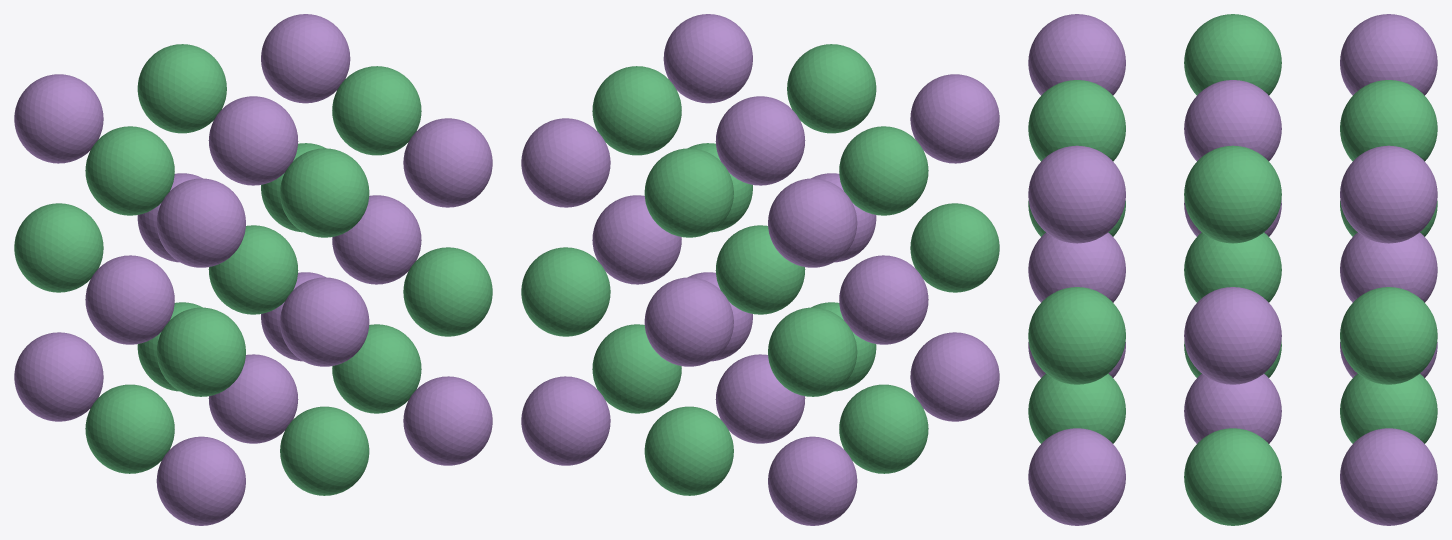
The model's file is rede_ionica_NaCl.glb.
The picture shows the model from 3 angles, left to right: view 1: azimuth 30°, elevation 25°; view 2: azimuth 150°, elevation 25°; view 3: azimuth 270°, elevation 25°; orthographic projection. The views are drawn at different scales.
Parts seen in each view (by area): view 1: Cl_23, Na_20, Na_26, Cl_11, Na_14, Cl_17, Cl_3, Na_4, Na_6, Cl_7, Cl_1, Na_0 (+15 smaller); view 2: Cl_21, Na_18, Na_24, Cl_9, Na_12, Cl_15, Na_4, Cl_5, Cl_7, Na_8, Cl_1, Na_2 (+15 smaller); view 3: Cl_19, Na_22, Na_24, Na_26, Cl_21, Cl_23, Na_18, Na_20, Cl_25, Cl_7, Cl_15, Cl_17 (+9 smaller).
Boxes of the visible parts, x1=… form: Cl_23: x1=403, y1=247, x2=492, y2=336; Na_20: x1=403, y1=376, x2=492, y2=465; Na_26: x1=403, y1=118, x2=492, y2=207; Cl_11: x1=280, y1=406, x2=369, y2=495; Na_14: x1=280, y1=277, x2=369, y2=366; Cl_17: x1=280, y1=148, x2=369, y2=237; Cl_3: x1=14, y1=203, x2=103, y2=292; Na_4: x1=85, y1=255, x2=174, y2=344; Na_6: x1=14, y1=74, x2=103, y2=163; Cl_7: x1=85, y1=126, x2=174, y2=215; Cl_1: x1=85, y1=384, x2=174, y2=473; Na_0: x1=14, y1=332, x2=103, y2=421; Cl_21: x1=521, y1=247, x2=610, y2=336; Na_18: x1=521, y1=376, x2=610, y2=465; Na_24: x1=521, y1=118, x2=610, y2=207; Cl_9: x1=644, y1=406, x2=733, y2=495; Na_12: x1=644, y1=277, x2=733, y2=366; Cl_15: x1=644, y1=148, x2=733, y2=237; Na_4: x1=839, y1=255, x2=928, y2=344; Cl_5: x1=910, y1=203, x2=999, y2=292; Cl_7: x1=839, y1=126, x2=928, y2=215; Na_8: x1=910, y1=74, x2=999, y2=163; Cl_1: x1=839, y1=384, x2=928, y2=473; Na_2: x1=910, y1=332, x2=999, y2=421; Cl_19: x1=1184, y1=428, x2=1281, y2=525; Na_22: x1=1184, y1=287, x2=1281, y2=384; Na_24: x1=1340, y1=145, x2=1437, y2=243; Na_26: x1=1028, y1=145, x2=1125, y2=243; Cl_21: x1=1340, y1=287, x2=1437, y2=384; Cl_23: x1=1028, y1=287, x2=1125, y2=384; Na_18: x1=1340, y1=428, x2=1437, y2=525; Na_20: x1=1028, y1=428, x2=1125, y2=525; Cl_25: x1=1184, y1=145, x2=1281, y2=243; Cl_7: x1=1184, y1=14, x2=1281, y2=95; Cl_15: x1=1340, y1=80, x2=1437, y2=161; Cl_17: x1=1028, y1=80, x2=1125, y2=161.
Bounding box in the file's own units: 2.26 × 2.26 × 2.26.
